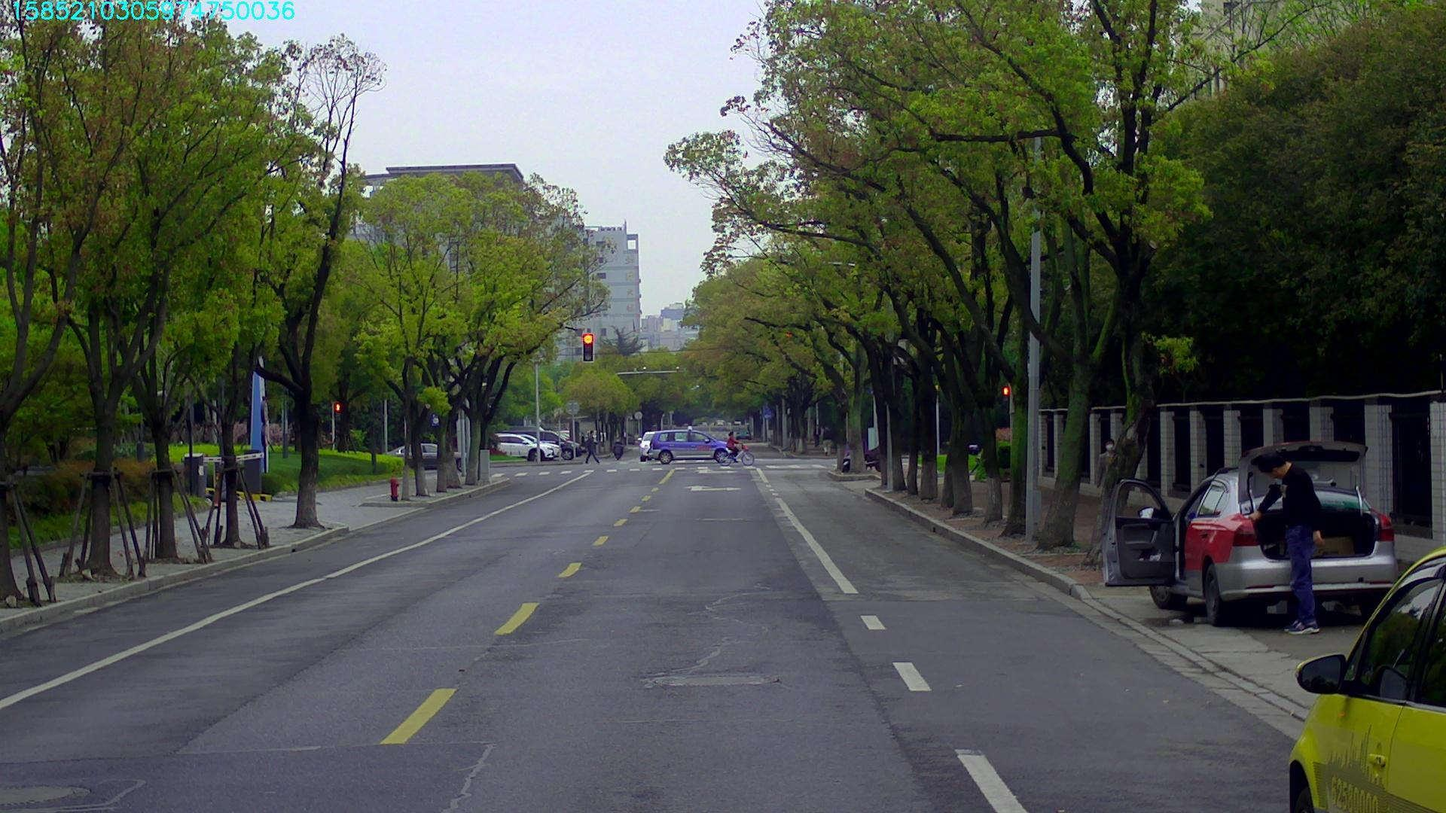red: (582, 333, 593, 360)
